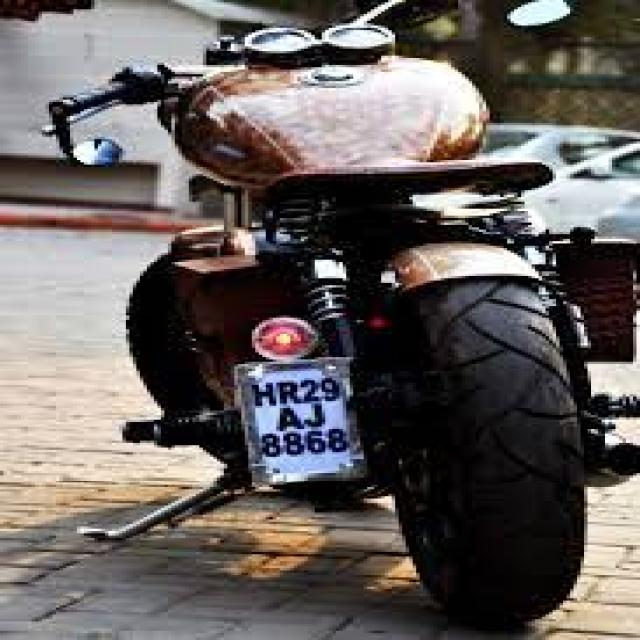license_plate: (227, 354, 371, 484)
